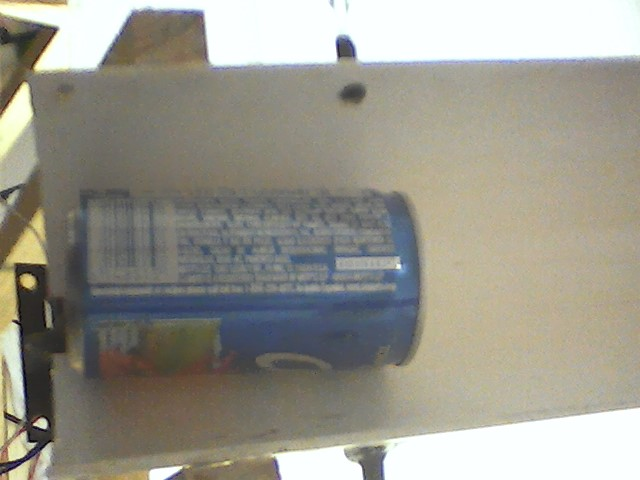lata: (51, 175, 441, 388)
